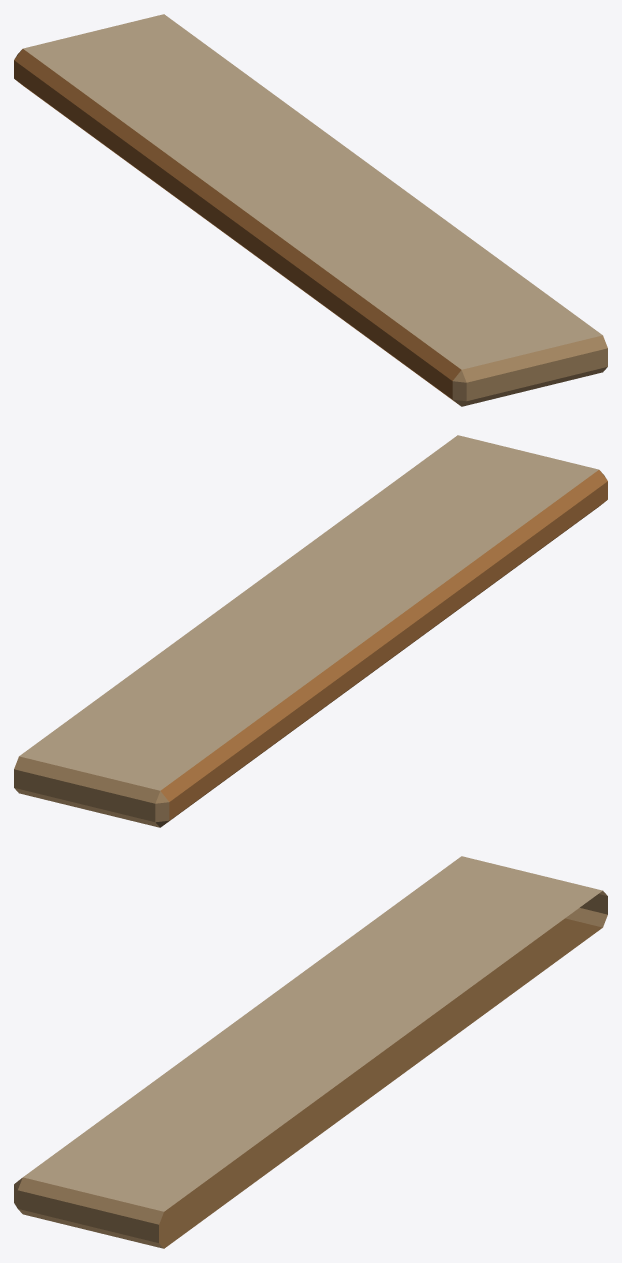
File: corner shelf.fbx
3 views of the same model, one above another, from view 1: azimuth 30°, elevation 25°; view 2: azimuth 150°, elevation 25°; view 3: azimuth 330°, elevation 25° (orthographic).
Visible parts, largest first — view 1: corner shelf; view 2: corner shelf; view 3: corner shelf.
Boxes of the visible parts, x1=… form: corner shelf: x1=14, y1=14, x2=607, y2=406; corner shelf: x1=14, y1=435, x2=607, y2=827; corner shelf: x1=14, y1=856, x2=607, y2=1248.
Bounding box in the file's own units: 56.48 × 13.3 × 292.
